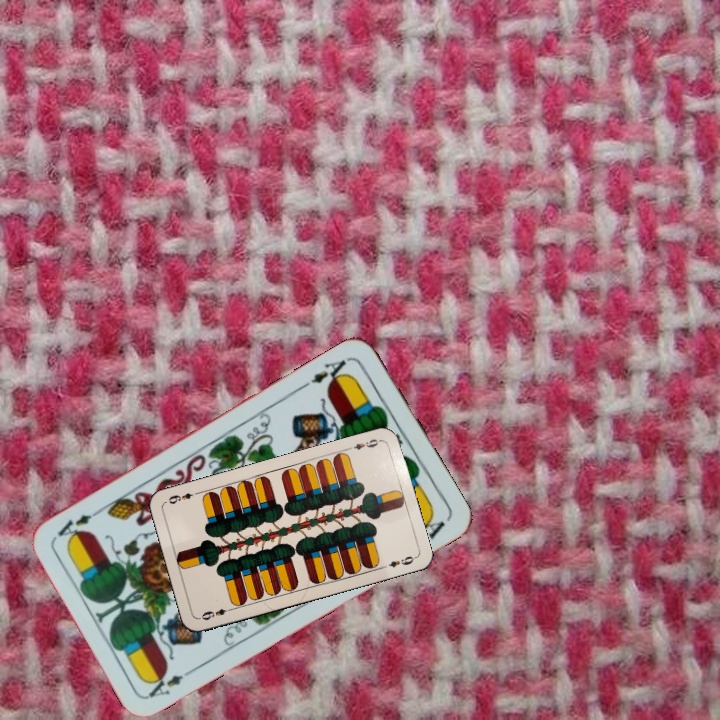E9: (197, 604, 236, 623), (344, 435, 384, 453)
EA: (142, 664, 198, 701), (307, 353, 353, 390)
